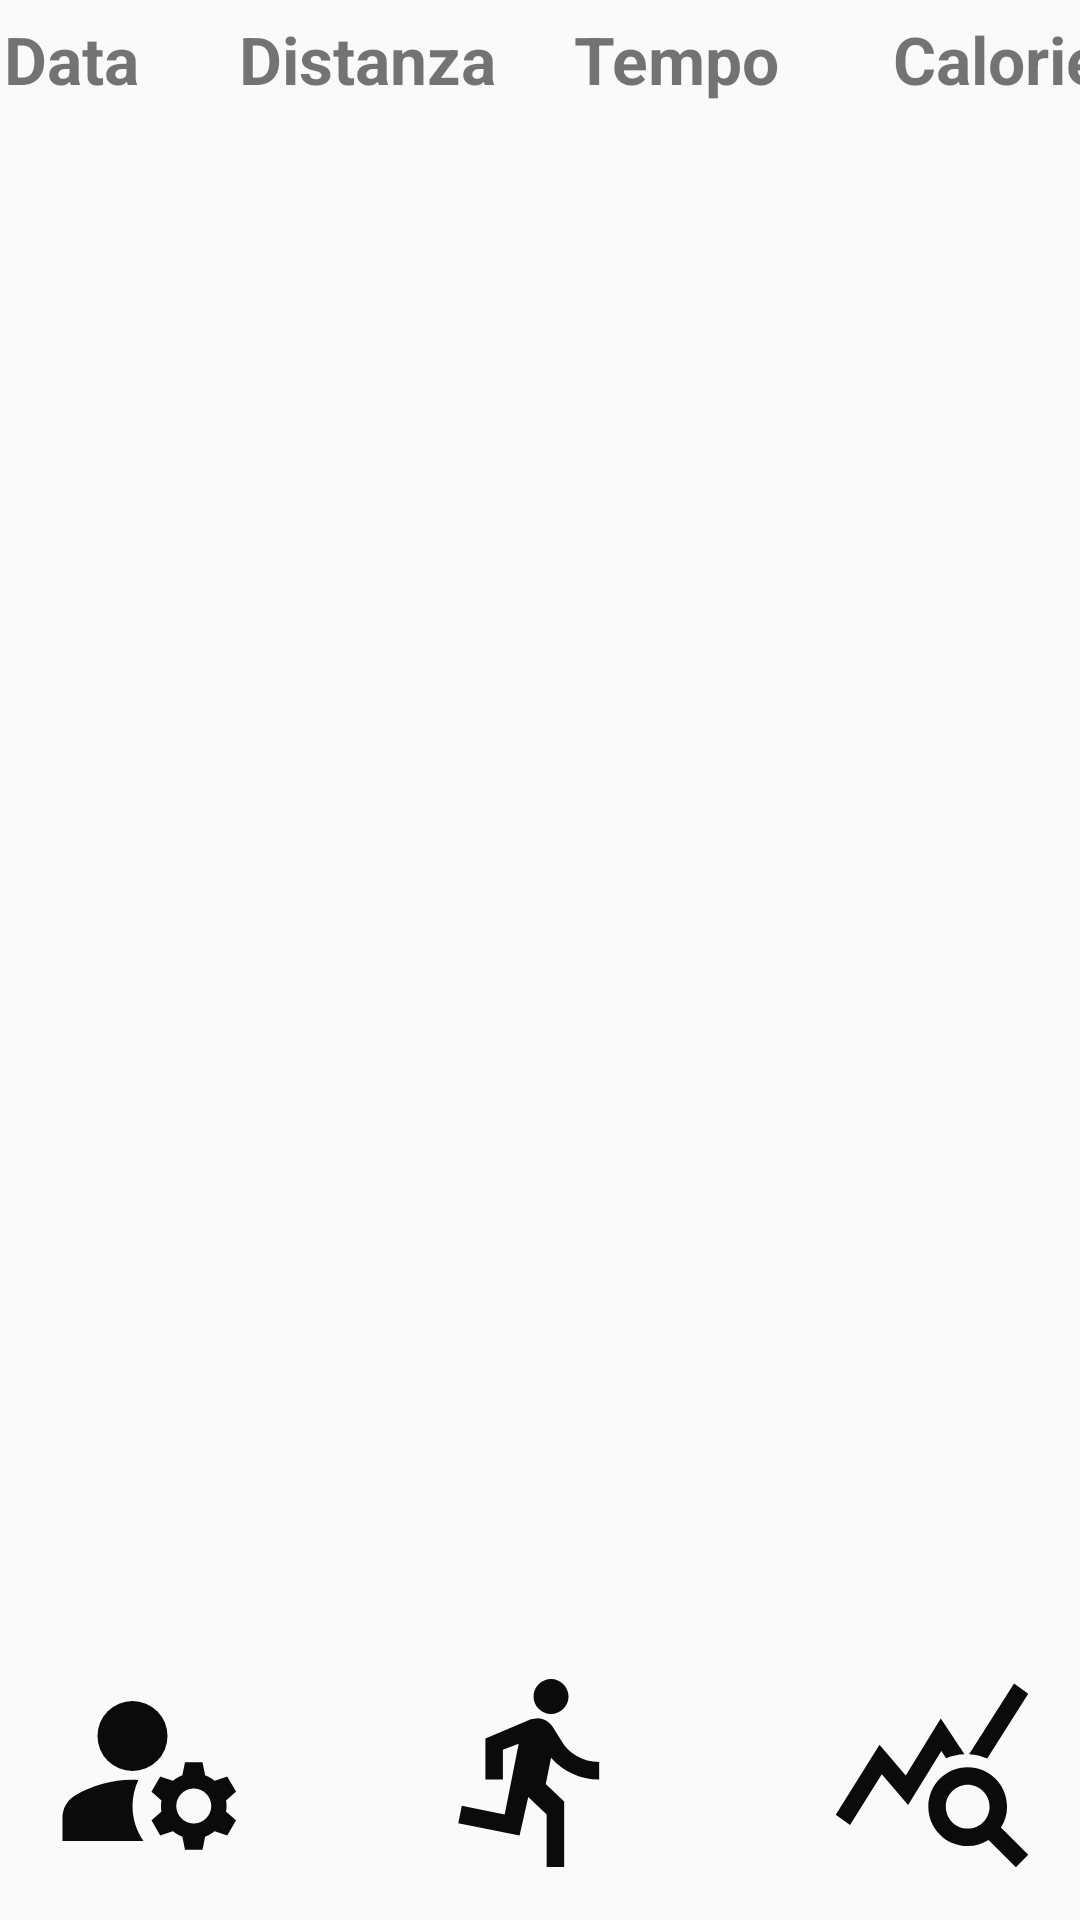

Named icons in this screenshot (1080 x 1920) and their bounding boxes, bbox=(x1, y1, x2, y2):
directions run: bbox=(458, 1679, 600, 1867)
manage accounts: bbox=(62, 1701, 236, 1850)
query stats: bbox=(836, 1683, 1028, 1867)
